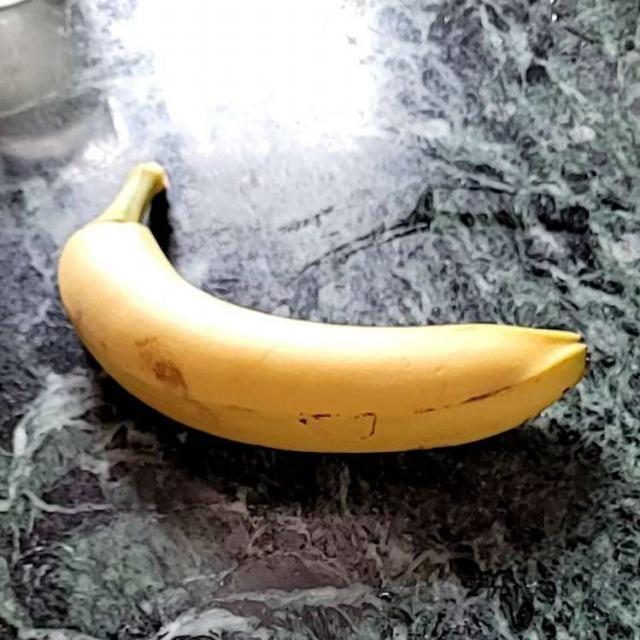banana: (68, 125, 627, 455)
